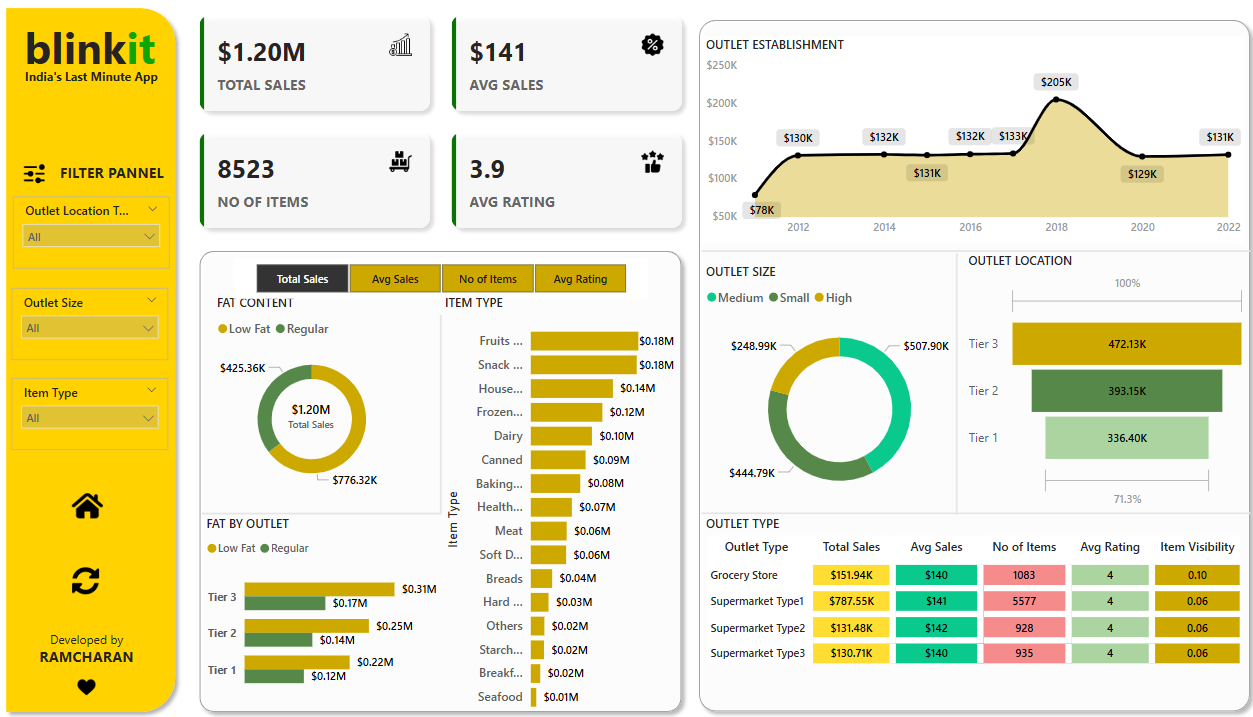

What the dashboard file says about the page in this screenshot:
{"tool":"powerbi","page":{"name":"Page 1","canvas":[1400,800],"ordinal":0},"visuals":[{"type":"shape","box":[0,0,206,800],"z":0},{"type":"textbox","box":[15.7,12.9,174.3,74.3],"z":1000},{"type":"textbox","box":[16,70,174,34],"z":2000},{"type":"cardVisual","fields":{"Data":["BlinkIT Grocery Data.Total Sales","BlinkIT Grocery Data.Avg Sales","BlinkIT Grocery Data.No of Items","BlinkIT Grocery Data.Avg Rating"]},"box":[206,0,570,270],"z":3000},{"type":"shape","box":[215,270,553.3,530],"z":4000},{"type":"donutChart","title":" FAT CONTENT","fields":{"Y":["BlinkIT Grocery Data.Total Sales"],"Category":["BlinkIT Grocery Data.Item Fat Content"]},"box":[238,326,220,230],"z":5000},{"type":"slicer","fields":{"Values":["Metrics.Metrics"]},"box":[262,286,460,45],"z":6000},{"type":"cardVisual","fields":{"Data":["BlinkIT Grocery Data.Total Sales"]},"box":[302,428,92,66],"z":7000},{"type":"clusteredBarChart","title":"FAT BY OUTLET","fields":{"Y":["BlinkIT Grocery Data.Total Sales"],"Category":["BlinkIT Grocery Data.Outlet Location Type"],"Series":["BlinkIT Grocery Data.Item Fat Content"]},"box":[226,572,266,210],"z":8000},{"type":"barChart","title":"ITEM TYPE","fields":{"Y":["BlinkIT Grocery Data.Total Sales"],"Category":["BlinkIT Grocery Data.Item Type"]},"box":[492,326,264,474],"z":9000},{"type":"shape","box":[226,552,266,38],"z":10000},{"type":"shape","box":[450,350,84,220],"z":11000},{"type":"shape","box":[770,14,630,786],"z":12000},{"type":"lineChart","title":"OUTLET ESTABLISHMENT","fields":{"Category":["BlinkIT Grocery Data.Outlet Establishment Year"],"Y":["BlinkIT Grocery Data.Total Sales"]},"box":[782,40,604,230],"z":13000},{"type":"shape","box":[782,250,610,58],"z":14000},{"type":"donutChart","title":"OUTLET SIZE","fields":{"Y":["BlinkIT Grocery Data.Total Sales"],"Category":["BlinkIT Grocery Data.Outlet Size"]},"box":[782,292,306,278],"z":15000},{"type":"shape","box":[1024,282,84,290],"z":16000},{"type":"funnel","title":"OUTLET LOCATION","fields":{"Y":["Sum(BlinkIT Grocery Data.Sales)"],"Category":["BlinkIT Grocery Data.Outlet Location Type"]},"box":[1073.3,280,318.3,290],"z":17000},{"type":"shape","box":[782,544,610,54],"z":18000},{"type":"pivotTable","title":"OUTLET TYPE","fields":{"Rows":["BlinkIT Grocery Data.Outlet Type"],"Values":["BlinkIT Grocery Data.Total Sales","BlinkIT Grocery Data.Avg Sales","BlinkIT Grocery Data.No of Items","BlinkIT Grocery Data.Avg Rating","Avg(BlinkIT Grocery Data.Item Visibility)"]},"box":[781.7,571.7,610,206.7],"z":19000},{"type":"slicer","fields":{"Values":["BlinkIT Grocery Data.Outlet Location Type"]},"box":[16.2,218.2,173.8,80],"z":20000},{"type":"slicer","fields":{"Values":["BlinkIT Grocery Data.Outlet Size"]},"box":[15.7,320,174.3,80],"z":21000},{"type":"slicer","fields":{"Values":["BlinkIT Grocery Data.Item Type"]},"box":[15.7,420,174.3,80],"z":22000},{"type":"textbox","box":[15.7,174.3,174.3,44.3],"z":23000},{"type":"image","box":[15.7,174.3,50,35.7],"z":24000},{"type":"textbox","box":[0,705.7,197.1,44.3],"z":25000},{"type":"image","box":[75,750,40,30],"z":26000},{"type":"image","box":[75.7,625.7,45,40],"z":27000},{"type":"image","box":[76,542,45,40],"z":28000}]}

Visuals, with their boxes in screenshot pixels (x1, y1, x2, y2), scaled from the page's 1400x800 canvas onto the 1253x717 screenshot:
shape: (0, 0, 184, 716)
textbox: (14, 12, 170, 78)
textbox: (14, 63, 170, 93)
cardVisual - BlinkIT Grocery Data.Total Sales x BlinkIT Grocery Data.Avg Sales: (184, 0, 695, 242)
shape: (192, 242, 688, 716)
" FAT CONTENT" donutChart: (213, 292, 410, 498)
slicer - Metrics.Metrics: (234, 256, 646, 297)
cardVisual - BlinkIT Grocery Data.Total Sales: (270, 384, 353, 443)
"FAT BY OUTLET" clusteredBarChart: (202, 513, 440, 701)
"ITEM TYPE" barChart: (440, 292, 677, 716)
shape: (202, 495, 440, 529)
shape: (403, 314, 478, 511)
shape: (689, 13, 1252, 716)
"OUTLET ESTABLISHMENT" lineChart: (700, 36, 1240, 242)
shape: (700, 224, 1246, 276)
"OUTLET SIZE" donutChart: (700, 262, 974, 511)
shape: (916, 253, 992, 513)
"OUTLET LOCATION" funnel: (961, 251, 1245, 511)
shape: (700, 488, 1246, 536)
"OUTLET TYPE" pivotTable: (700, 512, 1246, 698)
slicer - BlinkIT Grocery Data.Outlet Location Type: (14, 196, 170, 267)
slicer - BlinkIT Grocery Data.Outlet Size: (14, 287, 170, 358)
slicer - BlinkIT Grocery Data.Item Type: (14, 376, 170, 448)
textbox: (14, 156, 170, 196)
image: (14, 156, 59, 188)
textbox: (0, 632, 176, 672)
image: (67, 672, 103, 699)
image: (68, 561, 108, 597)
image: (68, 486, 108, 522)
